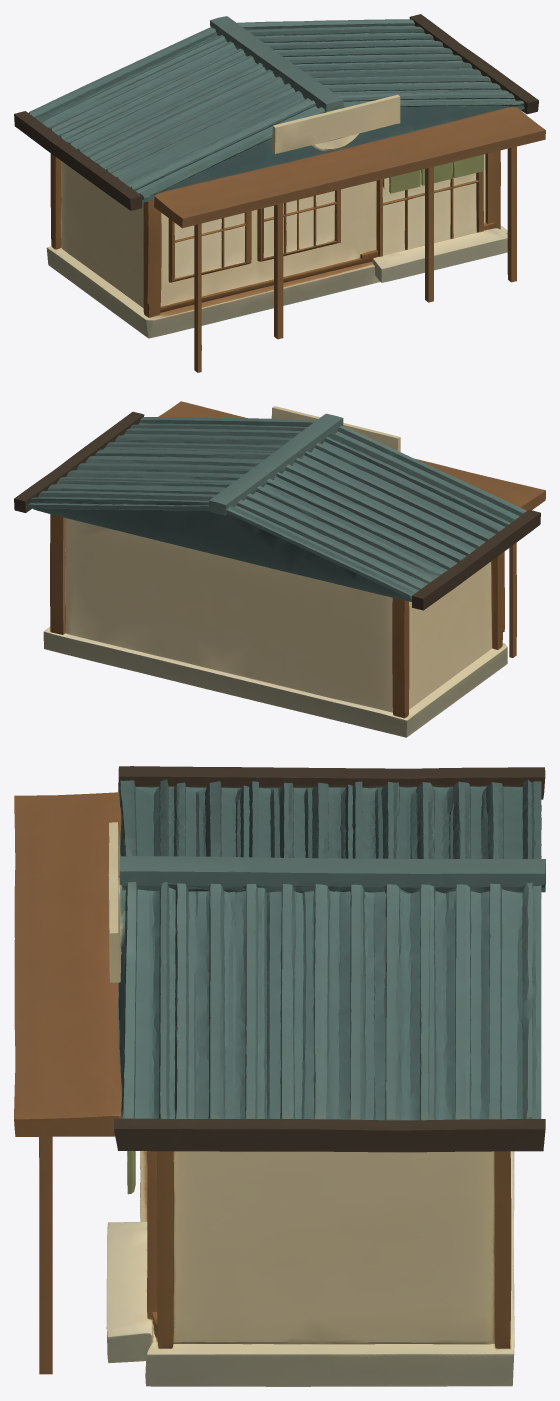
Rendered from source.glb.
3 renders of one model, top to bottom at view 1: azimuth 30°, elevation 25°; view 2: azimuth 150°, elevation 25°; view 3: azimuth 270°, elevation 25°, orthographic. The views are drawn at different scales.
Parts seen in each view (by area): view 1: model; view 2: model; view 3: model.
Part boxes in pixels (<box>): model: <box>14,14,545,372</box>; model: <box>14,401,545,737</box>; model: <box>14,766,545,1386</box>.
Size of the model in its own units: 1.9 by 0.9649 by 1.18.
Materials: 1 (1 with a texture image).
